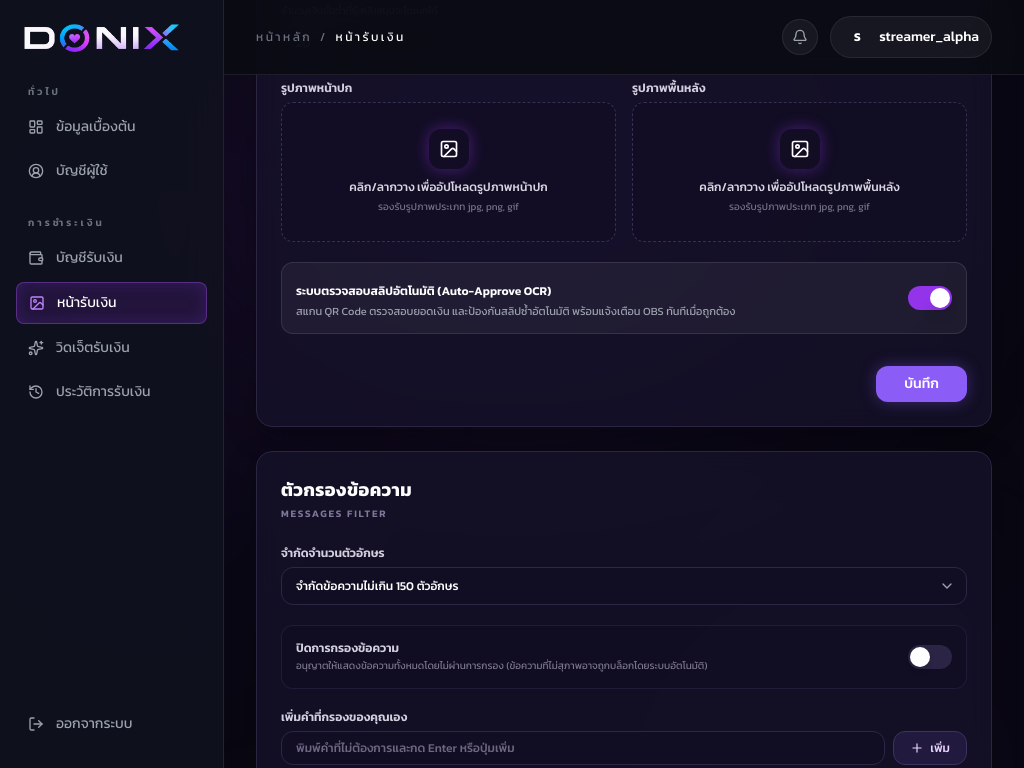
it: DonatePage Integration › handles error when saving DecorateSection fails
(page scrolled)
What coordinates should you click on to do the following:
click the button "บันทึก"
I would click on:
 (922, 384)
Its box is [876,366,967,402].
(page scrolled)
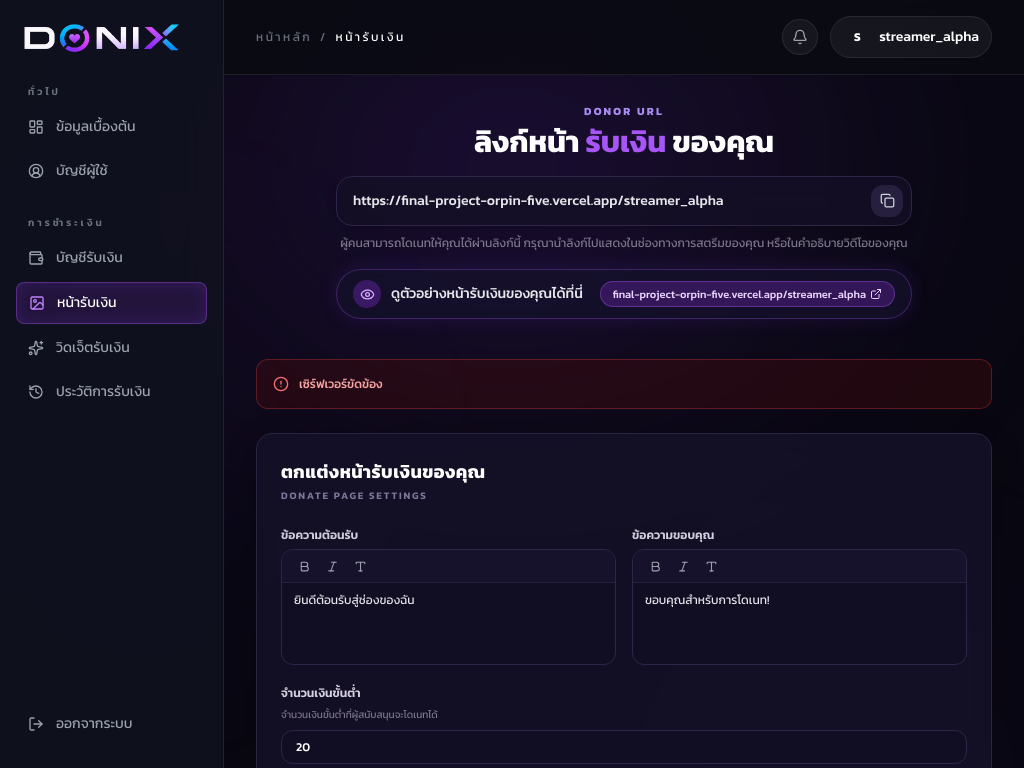
Expected: the text "เซิร์ฟเวอร์ขัดข้อง" is shown, [299,376,382,392]
